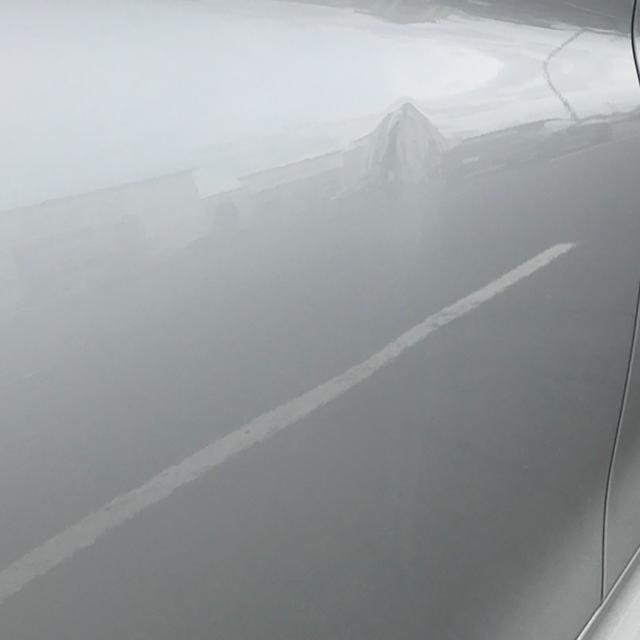dents: (344, 99, 463, 228)
